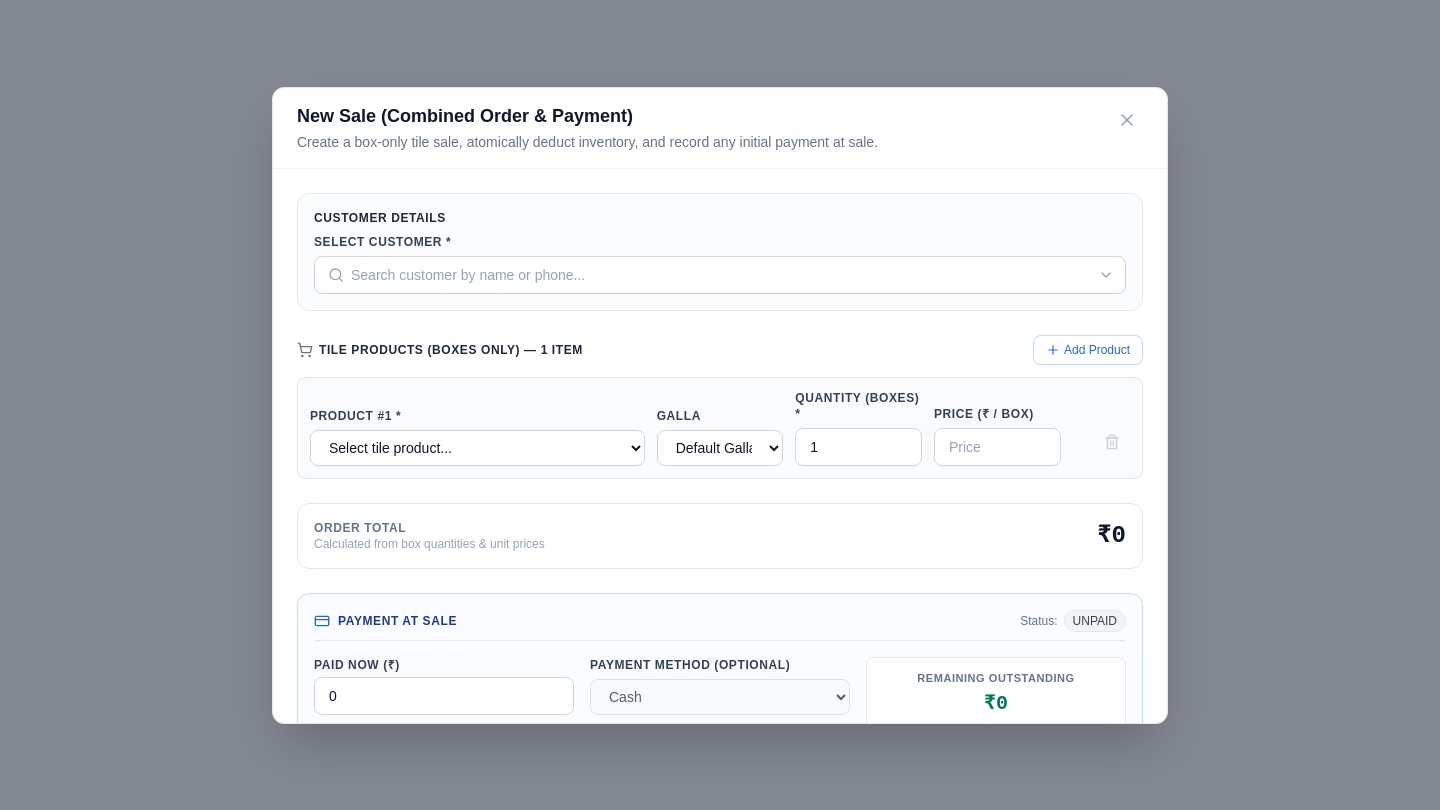
Test case: OrderCreateModal Component › validates overpayment on client side
The width and height of the screenshot is (1440, 810).
Type "cust-1" into the dropdown labelled "Select Customer *" at (720, 274), box [314,256,1126,294]
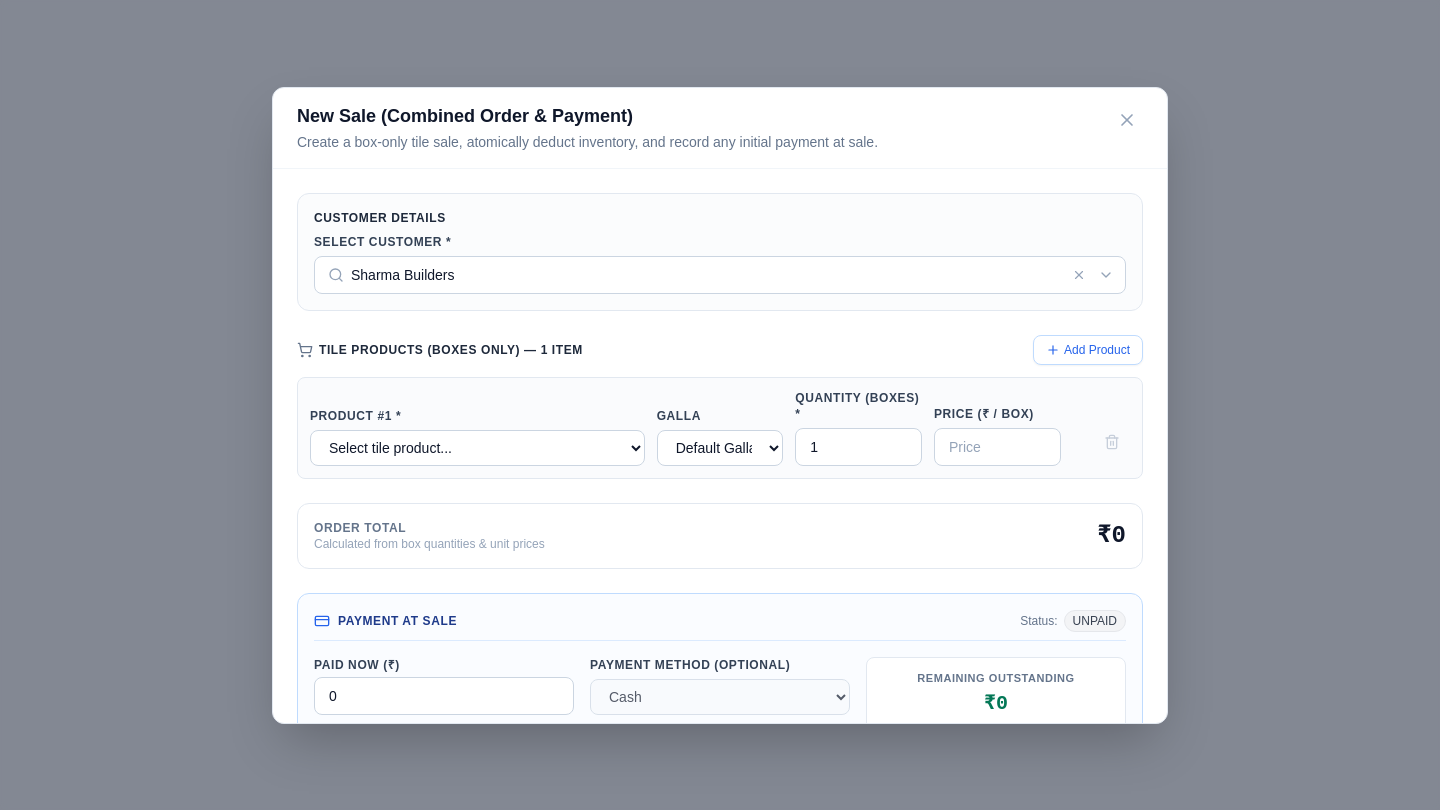
Select "Kajaria Floor 600x600 (Kajaria) [₹600/box]" in the dropdown labelled "Product #1 *" at (477, 448), box [310,430,645,466]
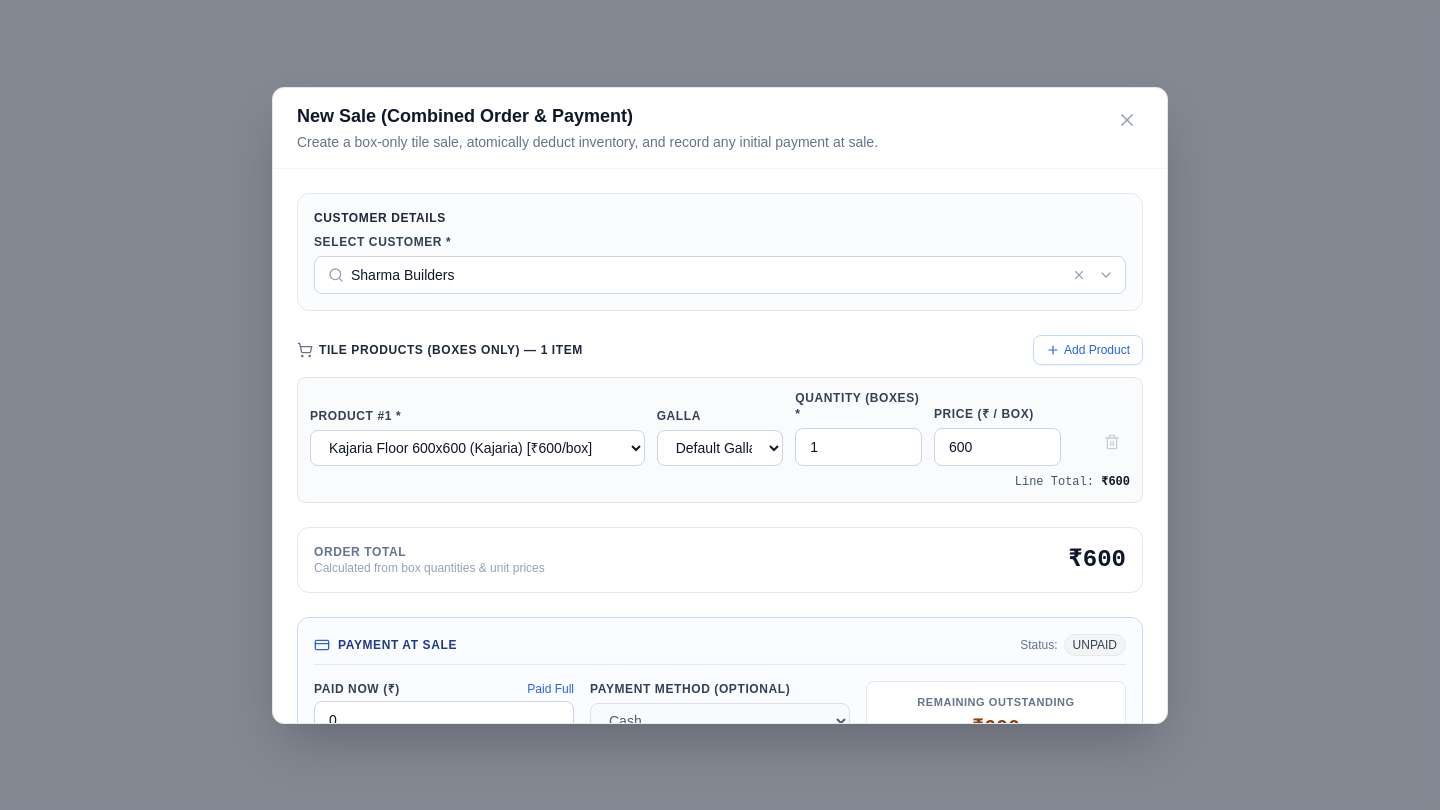
Replace the text in the number field labelled "Quantity (BOXES) *" with "2" at (859, 446), box [795,428,922,466]
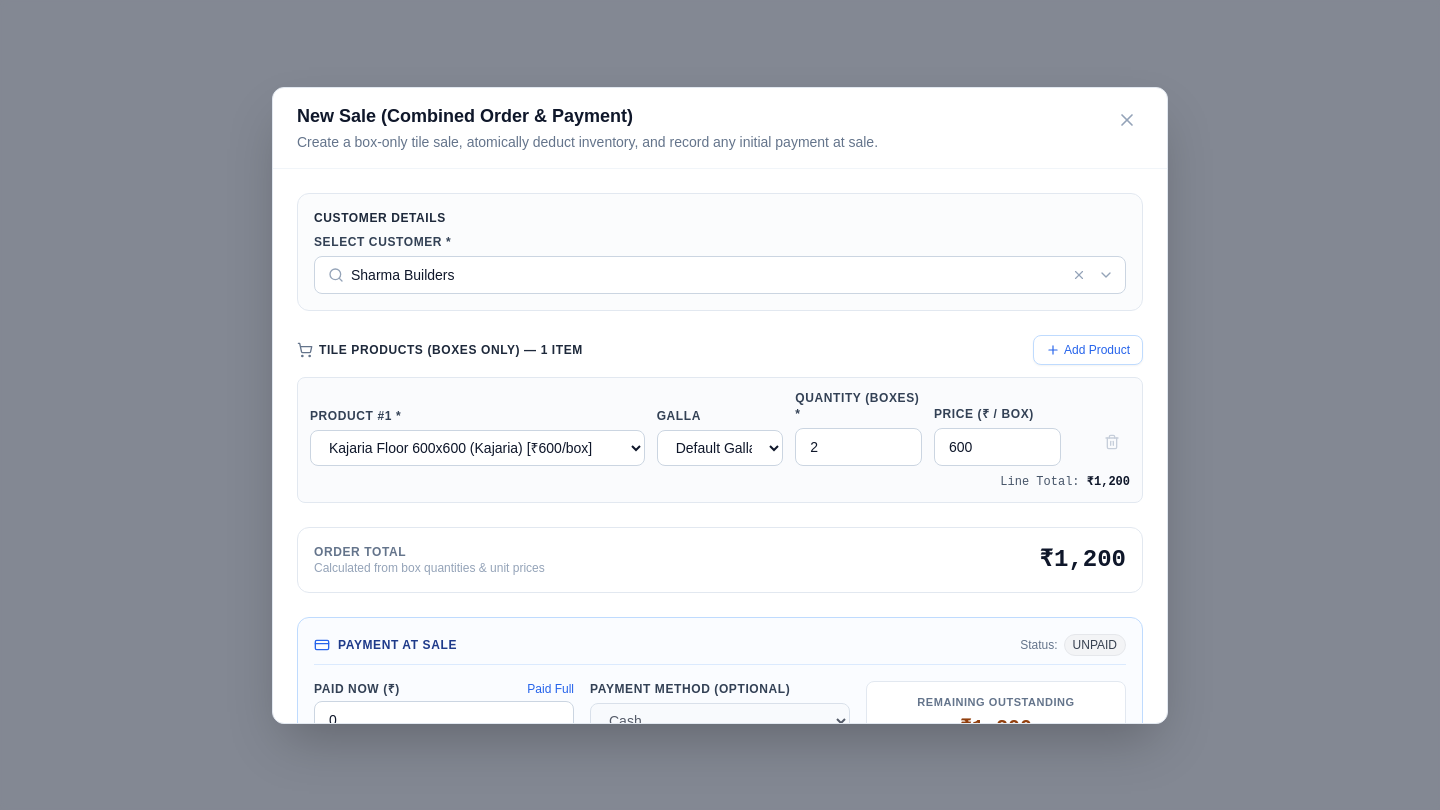
Replace the text in the number field labelled "Paid Now (₹)" with "2000" at (444, 720), box [314,700,574,738]
(page scrolled)
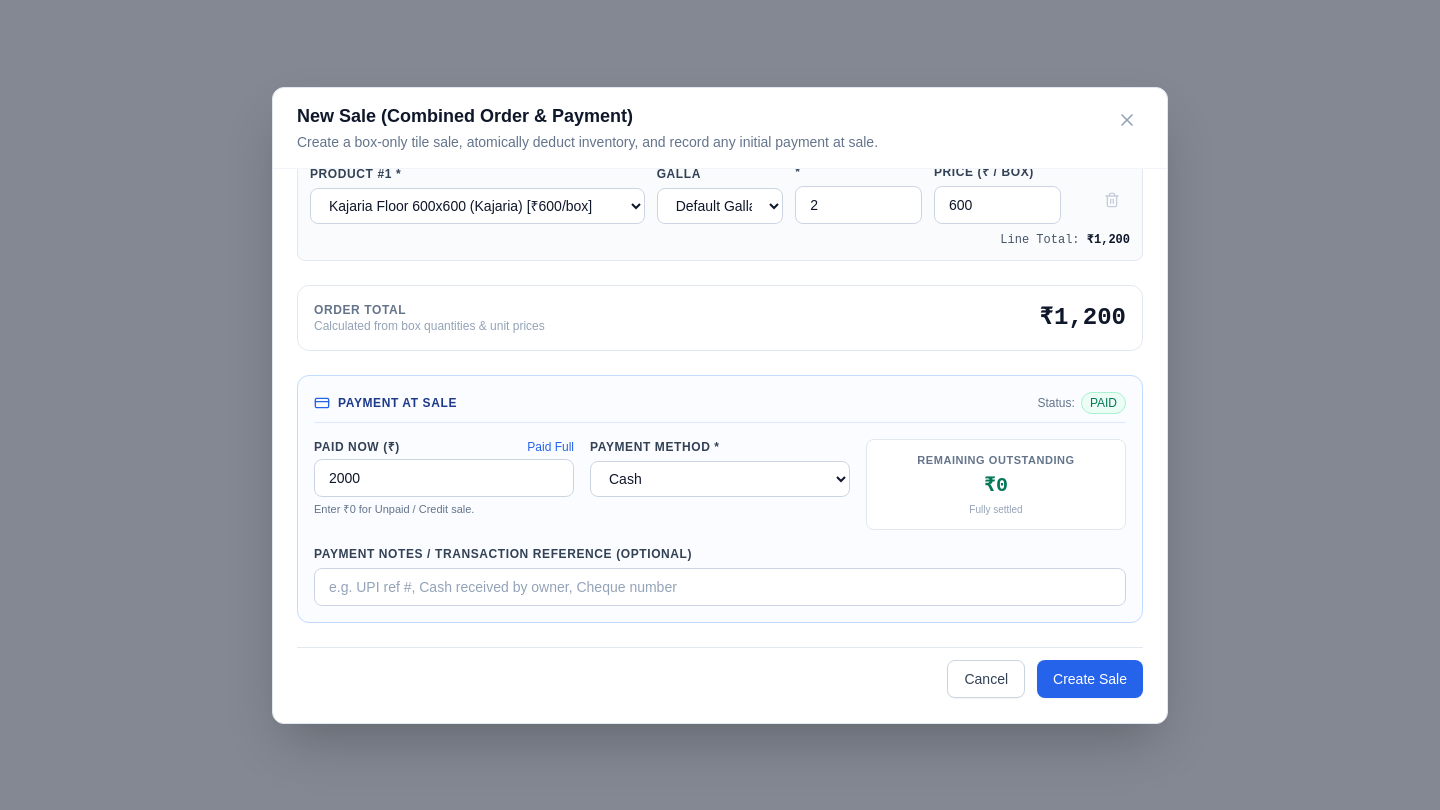
Click the button "Create Sale" at (1090, 679), box [1037,660,1143,698]
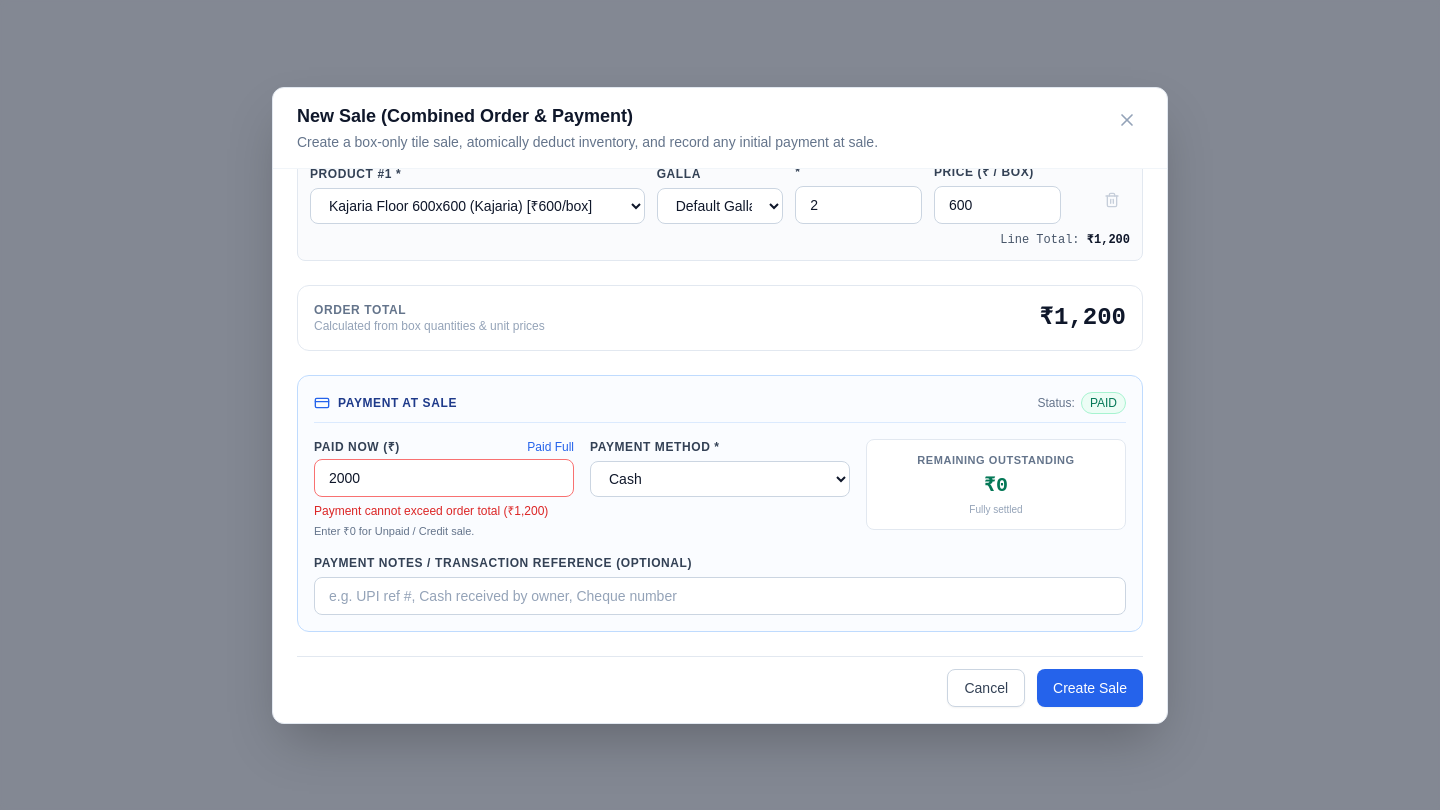
Expected: the text "Payment cannot exceed order total (₹1,200)" is shown, [314,502,574,518]
